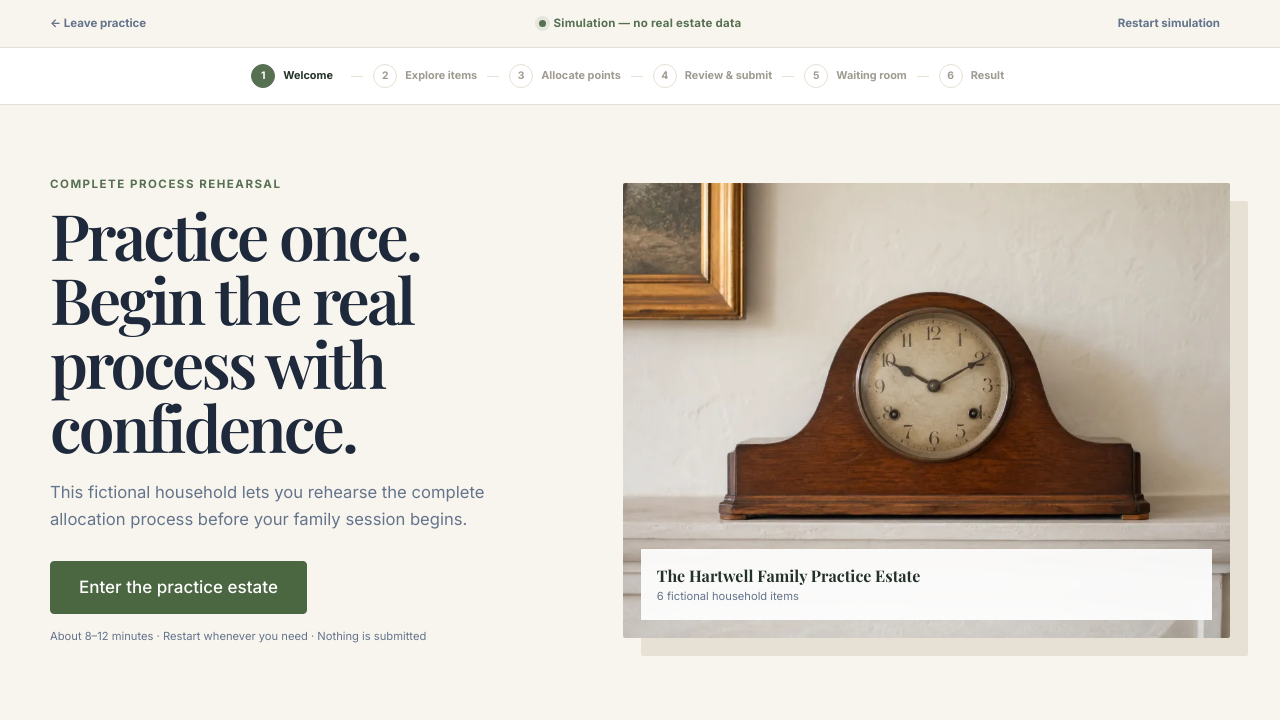
it: AllocationPracticeRoom journey › requires confirmation before restarting active work
This screenshot has width=1280, height=720.
Click the button "Enter the practice estate" at (178, 588), box x1=50 y1=561 x2=307 y2=614
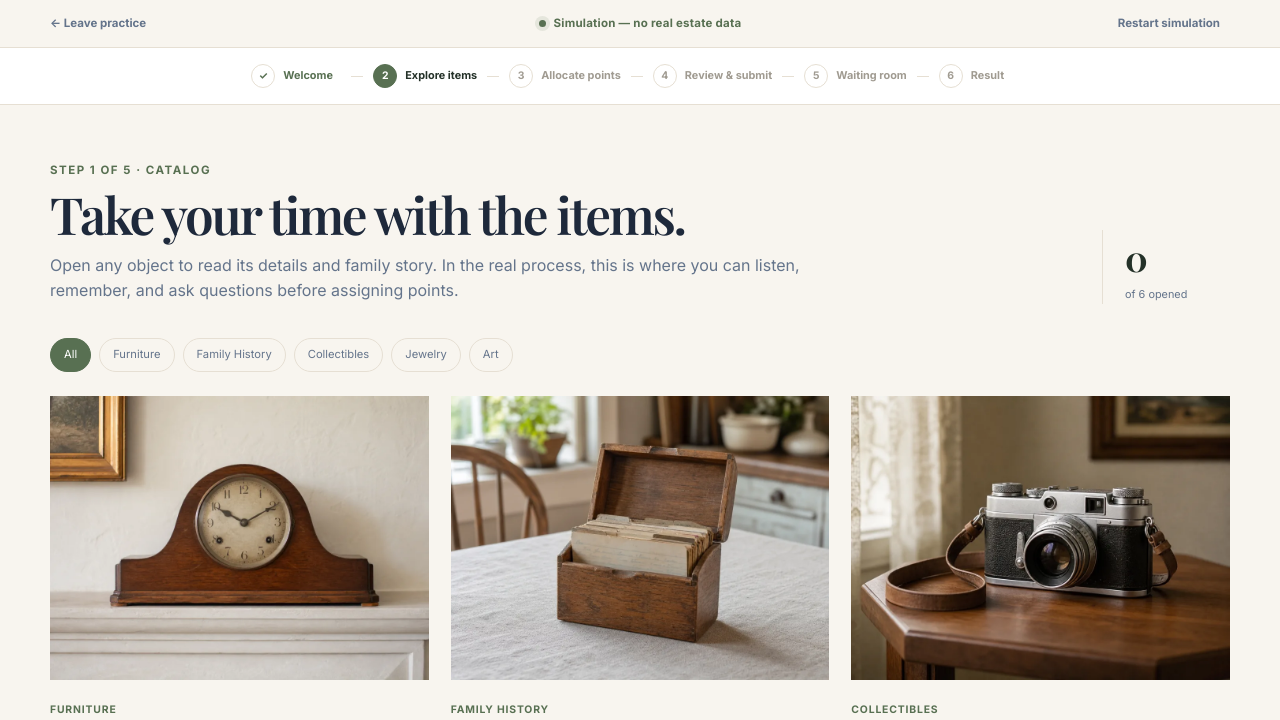
Click the button "Restart simulation" at (1169, 24), box x1=1108 y1=8 x2=1230 y2=40
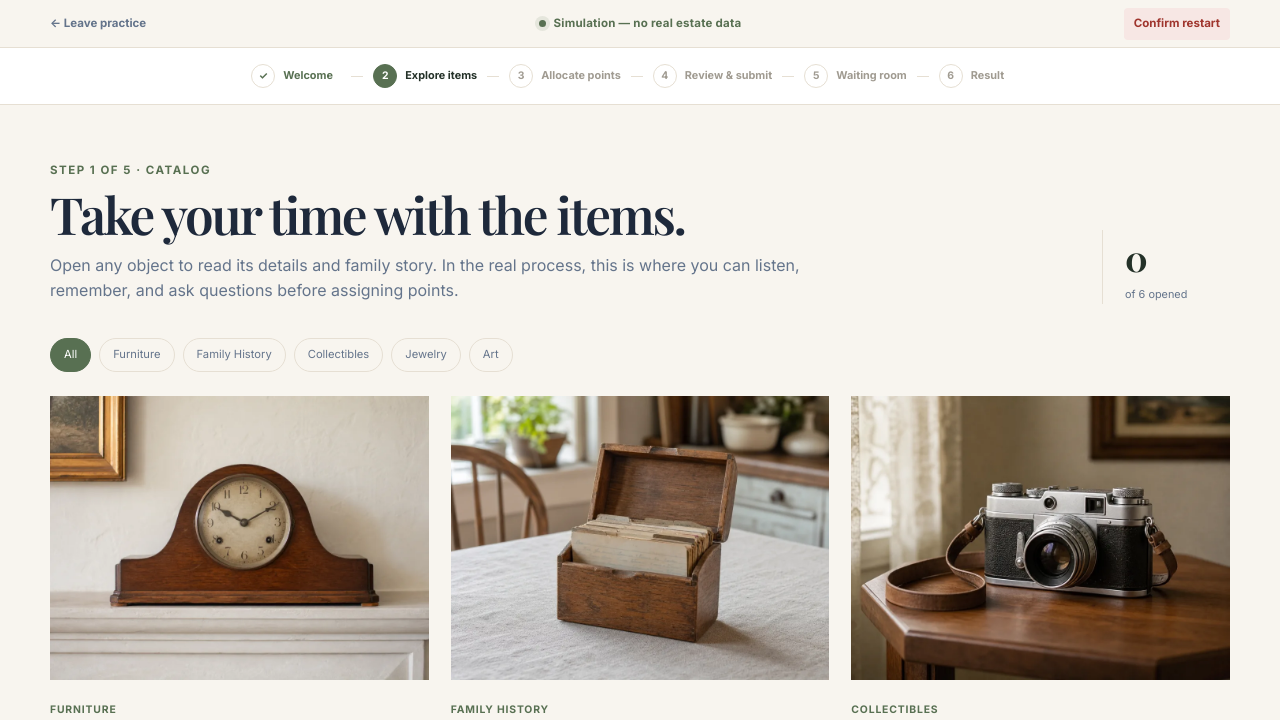
Now the button "Confirm restart" is shown
Click the button "Confirm restart" at (1177, 24), box x1=1124 y1=8 x2=1230 y2=40
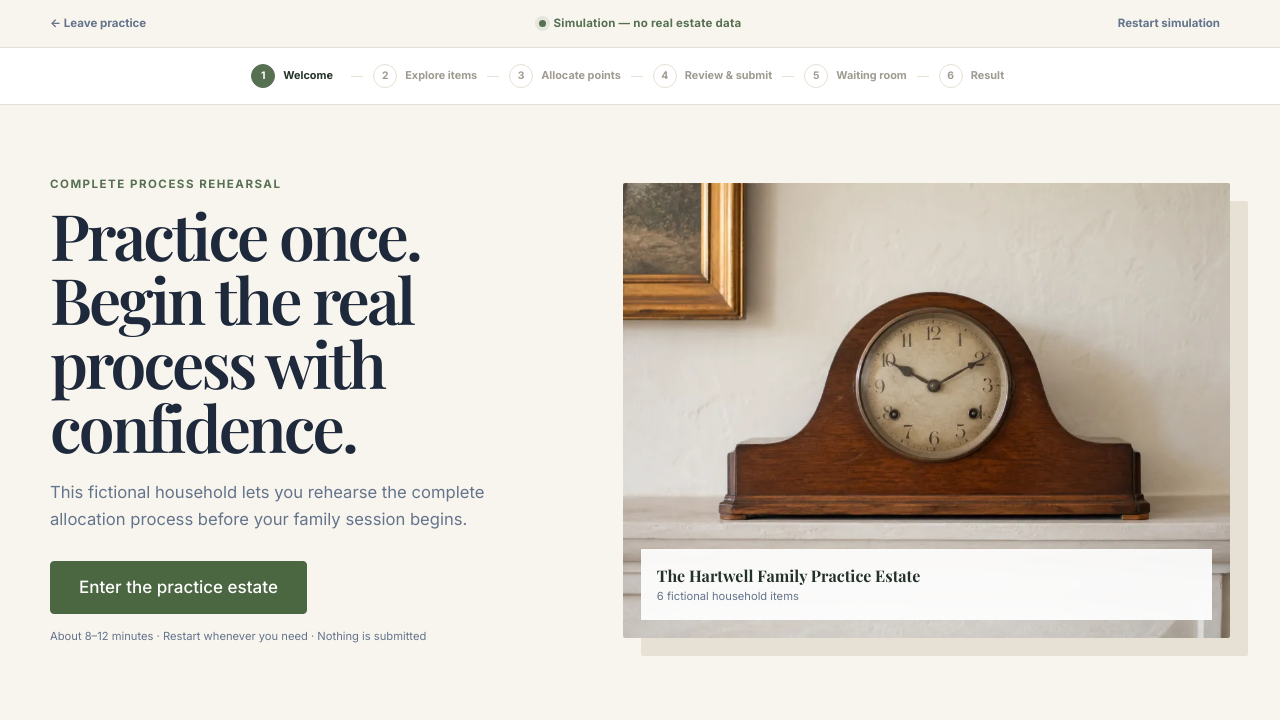
Now the heading "Practice once.Begin the real process with confidence." is shown, box x1=50 y1=192 x2=420 y2=469
